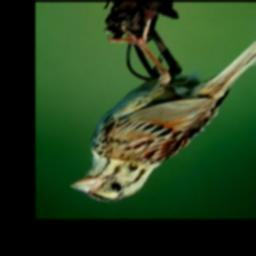Sparrow: (66, 18, 256, 204)
